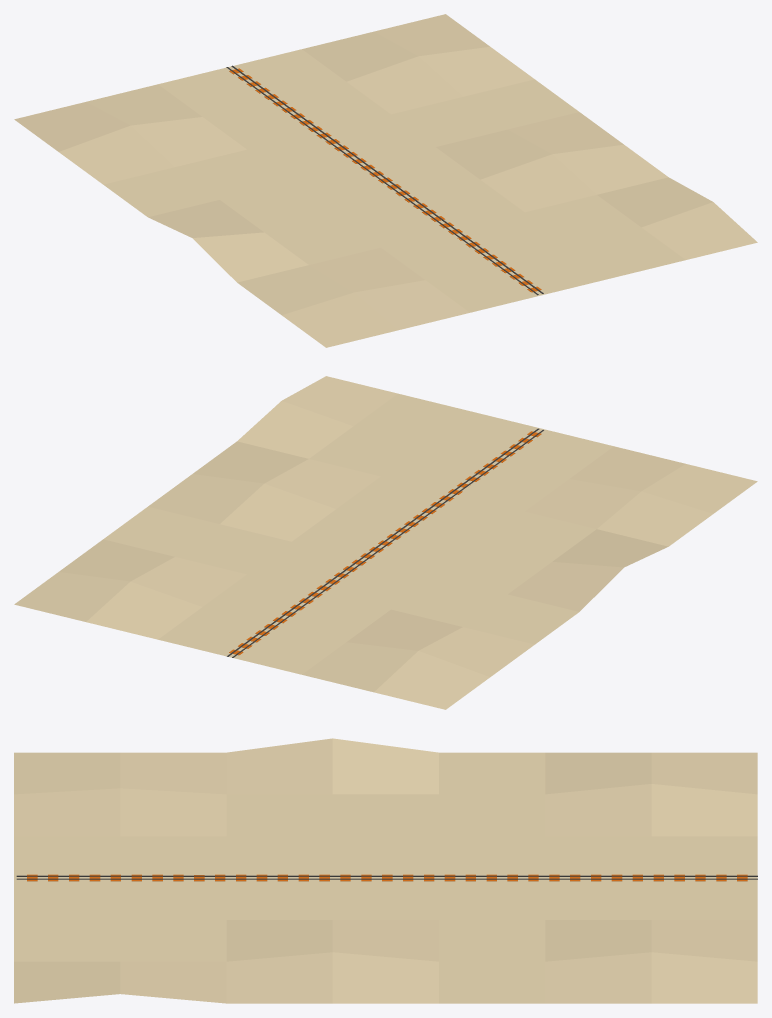
The model's file is Suelo del tren (1).fbx.
3 views of the same model, one above another, from view 1: azimuth 30°, elevation 25°; view 2: azimuth 150°, elevation 25°; view 3: azimuth 270°, elevation 25° (orthographic). The views are drawn at different scales.
Parts seen in each view (by area): view 1: Plane; view 2: Plane; view 3: Plane.
Boxes of the visible parts, x1,y1,x2,y2 form: Plane: (14,14,757,347); Plane: (14,376,757,709); Plane: (14,738,757,1003).
Size of the model in its own units: 16014 by 419 by 20058.
